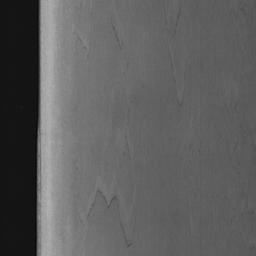Silk spot: (56, 0, 137, 256), (160, 91, 256, 256), (161, 0, 256, 56), (160, 53, 203, 121)
